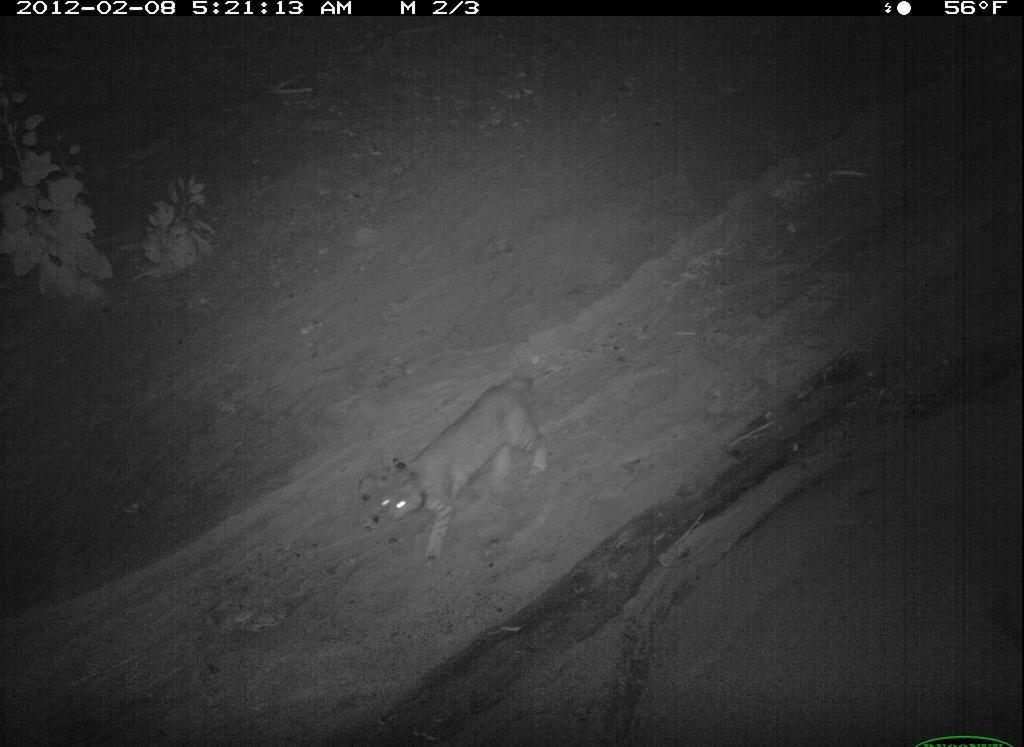bobcat: (747, 736, 1024, 747)
